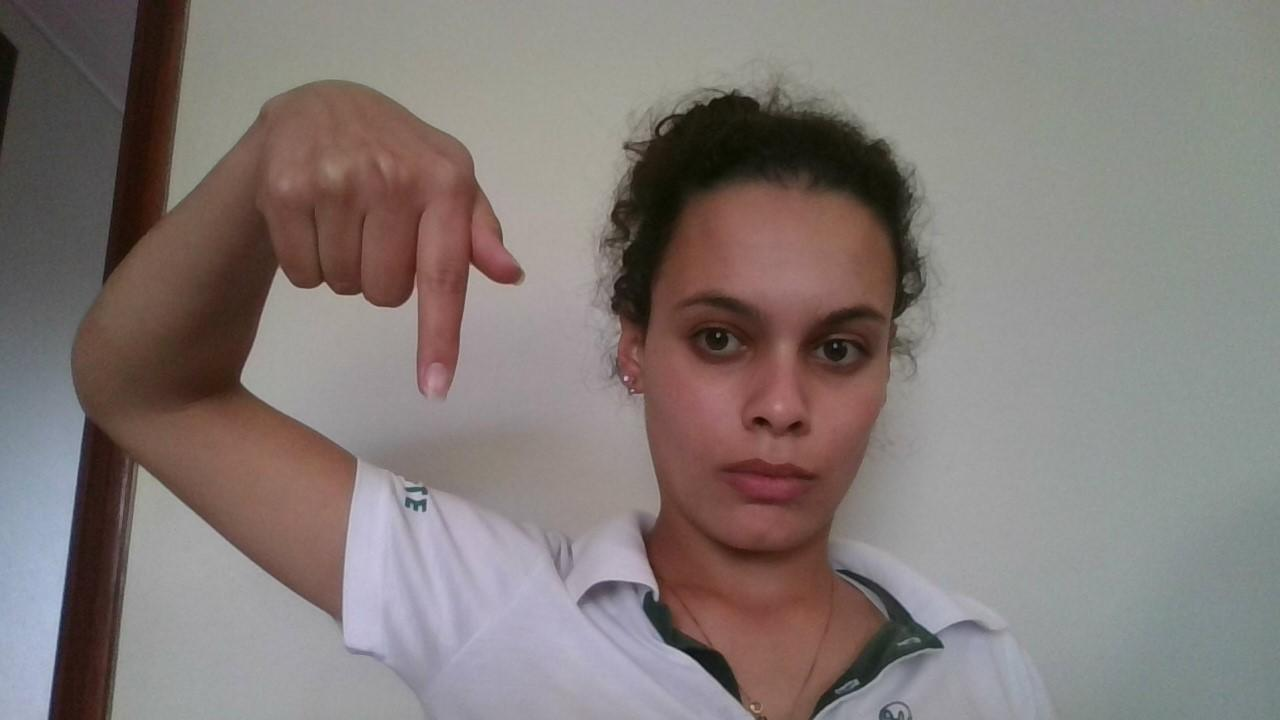Q: (246, 78, 530, 408)
